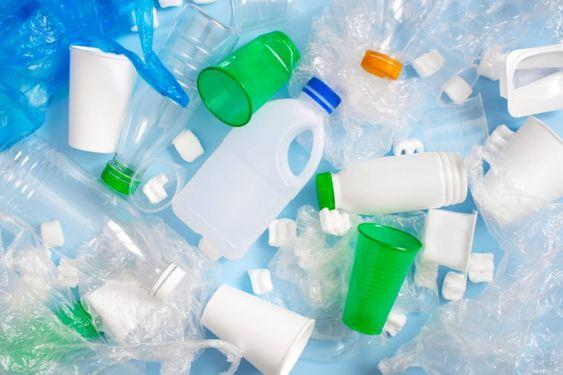HDPE: (175, 97, 324, 263), (336, 151, 468, 214), (301, 77, 341, 117), (149, 263, 188, 303), (361, 51, 403, 81), (314, 171, 338, 211)
PETE: (0, 127, 161, 285), (116, 5, 238, 177)
PP: (197, 29, 302, 128), (344, 222, 424, 334)
PS: (200, 282, 316, 375), (477, 117, 563, 229), (68, 44, 136, 154), (420, 208, 478, 272)
